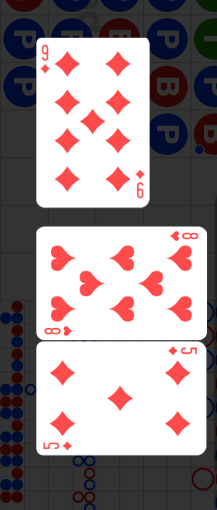5D: (42, 440, 74, 452)
9D: (134, 168, 147, 200), (40, 44, 51, 75)
